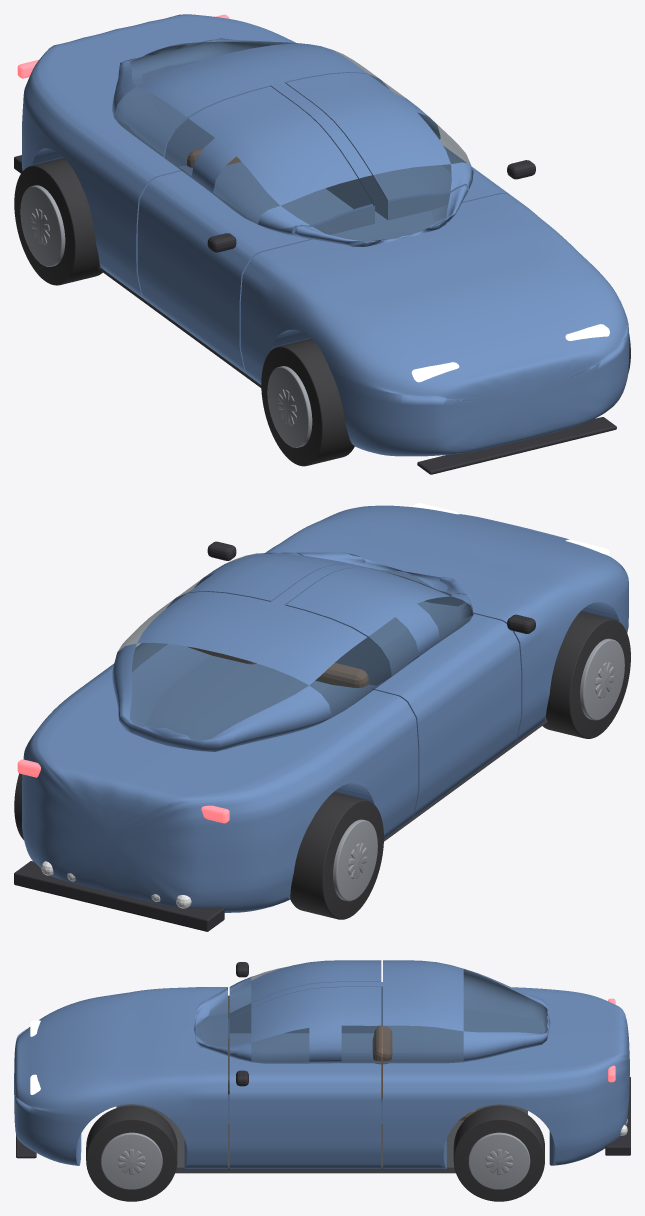
File: car.glb
3 views of the same model, one above another, from view 1: azimuth 30°, elevation 25°; view 2: azimuth 150°, elevation 25°; view 3: azimuth 270°, elevation 25° (orthographic). The views are drawn at different scales.
Parts seen in each view (by area): view 1: body, door.L, cabin, door.R, wheel.FL, wheel.RL, splitter; view 2: body, cabin, door.L, wheel.RL, wheel.FL, door.R, diffuser, seatback, floor; view 3: body, door.R, cabin, wheel.FR, wheel.RR, door.L, floor, seatback.001, diffuser.
Part boxes in pixels (x1,y1,x2,y2): body: (22,14,628,456); door.L: (137,86,372,373); cabin: (112,38,468,246); door.R: (286,72,509,202); wheel.FL: (261,338,354,466); wheel.RL: (14,158,102,285); splitter: (417,417,616,474); body: (22,505,628,912); cabin: (112,552,465,751); door.L: (286,567,521,816); wheel.RL: (290,792,383,919); wheel.FL: (542,611,630,738); door.R: (176,552,358,601); diffuser: (14,861,224,931); seatback: (315,663,368,687); floor: (384,717,547,841); body: (14,987,629,1168); door.R: (229,987,381,1168); cabin: (194,960,550,1063); wheel.FR: (86,1105,177,1201); wheel.RR: (453,1105,544,1201); door.L: (229,960,381,1013); floor: (116,1104,527,1173); seatback.001: (372,1026,392,1102); diffuser: (605,1077,630,1155).
Bounding box in the file's own units: 2.16 × 1.39 × 4.8.
